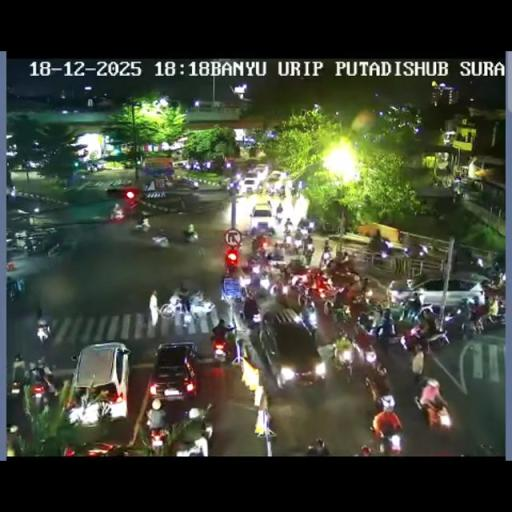Car: (255, 310, 323, 389), (68, 342, 130, 423), (148, 342, 198, 404), (248, 202, 274, 232), (106, 179, 138, 197), (167, 176, 199, 191), (241, 177, 262, 194), (247, 164, 268, 178), (266, 170, 286, 182)
Motorcycle: (244, 236, 364, 320), (398, 278, 504, 345), (414, 391, 452, 432), (350, 322, 380, 369), (361, 358, 392, 398), (306, 270, 338, 301), (26, 373, 50, 412), (173, 431, 208, 456), (333, 344, 356, 381), (374, 427, 404, 455), (186, 290, 216, 318), (401, 323, 428, 354), (244, 265, 270, 295), (454, 244, 482, 270), (274, 282, 297, 312), (399, 296, 423, 323), (10, 357, 27, 395), (210, 329, 230, 361), (342, 277, 366, 303), (328, 300, 351, 327), (298, 302, 318, 332), (148, 425, 168, 454), (486, 301, 506, 328), (403, 240, 430, 260), (197, 409, 213, 440), (6, 424, 22, 454), (460, 314, 478, 340), (6, 233, 27, 255), (24, 234, 47, 254), (6, 276, 25, 300), (170, 286, 187, 312), (482, 272, 504, 292), (306, 438, 330, 456), (411, 345, 424, 378), (366, 306, 382, 330), (245, 308, 262, 329), (36, 320, 50, 343), (477, 442, 500, 455), (379, 237, 393, 258), (298, 218, 316, 234), (319, 245, 332, 266), (269, 244, 285, 261), (150, 234, 169, 248), (133, 218, 151, 232), (288, 256, 306, 270), (302, 244, 314, 264), (183, 229, 199, 243), (229, 178, 243, 194), (250, 236, 262, 254), (46, 242, 61, 256), (195, 242, 206, 260), (110, 207, 124, 221), (491, 260, 502, 277), (294, 228, 304, 246), (283, 232, 294, 248), (452, 186, 462, 203), (339, 250, 350, 264), (267, 184, 277, 198), (274, 210, 284, 224), (292, 184, 302, 198), (276, 184, 285, 198), (284, 218, 293, 232), (85, 162, 97, 172), (266, 199, 272, 211)
